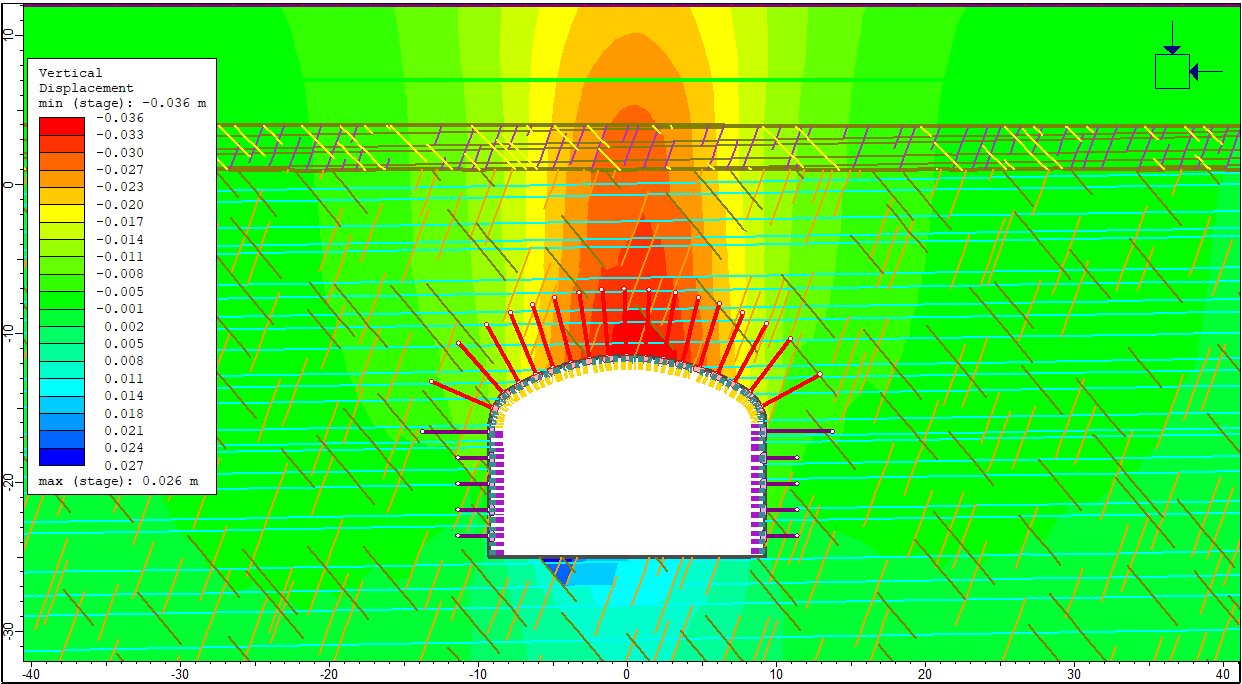crown: (586, 322, 665, 357)
label: (29, 59, 216, 496)
tunnel-opening: (487, 354, 769, 555)
